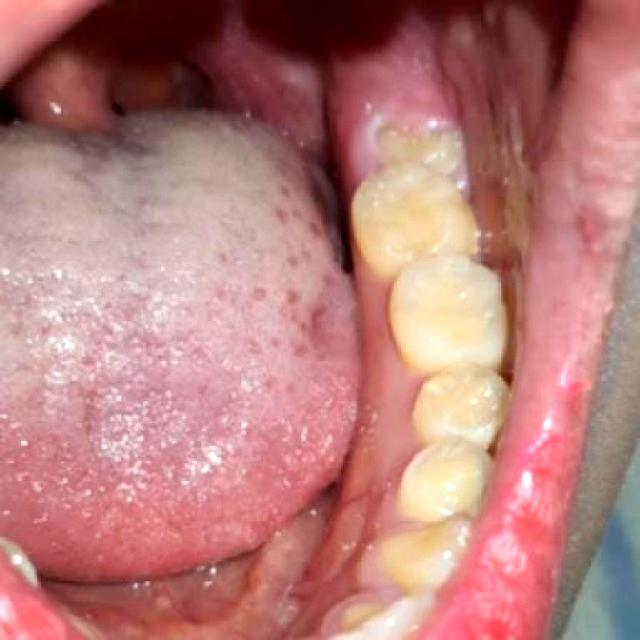Plaque: (332, 65, 457, 182)
